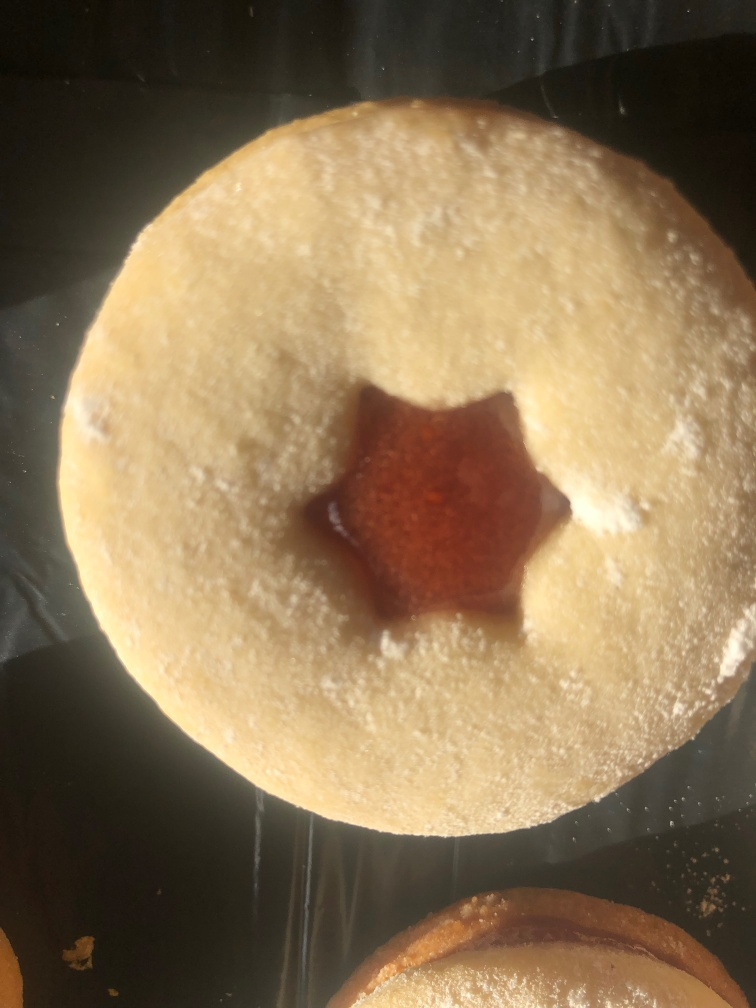christmas shortbread with jam: (55, 97, 756, 839)
